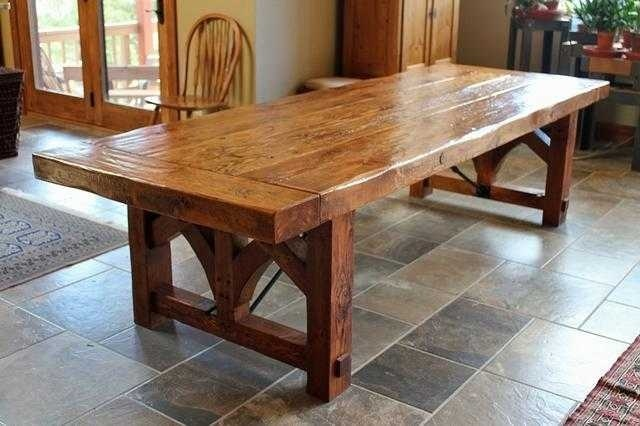obstacle: (33, 64, 608, 400)
